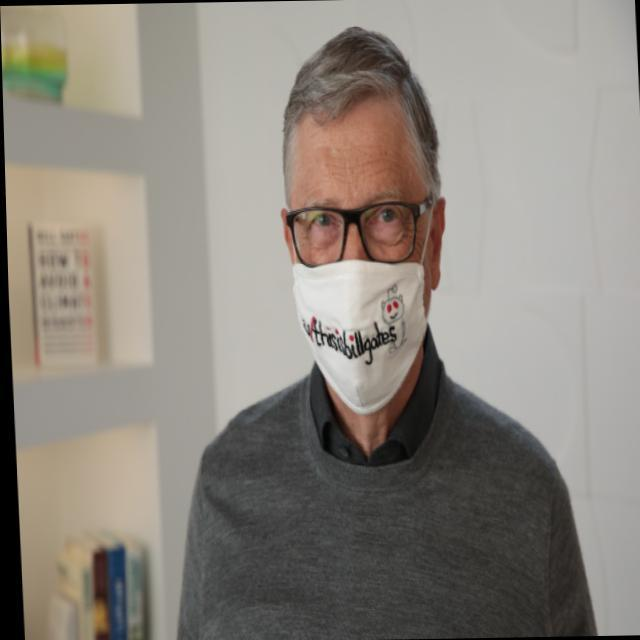Nonhelmet: (275, 23, 451, 416)
